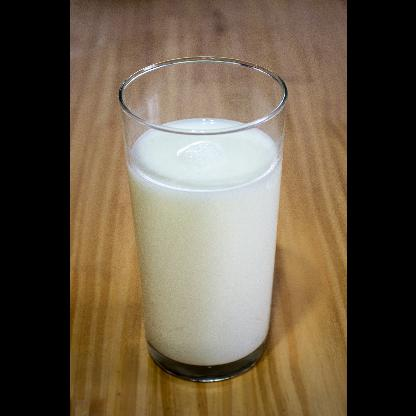milk: (124, 114, 282, 368)
